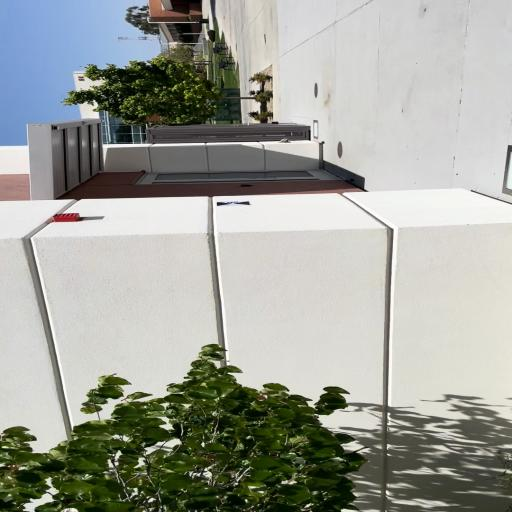target6: (216, 201, 250, 206)
